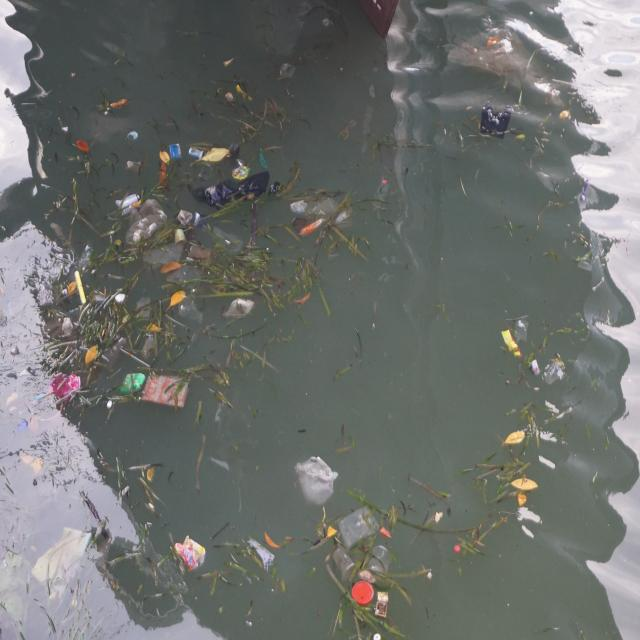Bungkus Makanan: (173, 533, 207, 572), (121, 370, 146, 399), (233, 158, 252, 182), (170, 141, 183, 161)
Bungkus Minuman: (333, 545, 358, 583), (126, 157, 145, 176), (189, 146, 206, 161)
Kantong Plastik: (292, 454, 340, 510), (289, 191, 354, 231), (201, 172, 271, 209), (143, 367, 192, 411), (128, 198, 169, 248), (339, 504, 382, 547), (479, 101, 513, 145), (226, 294, 255, 324)
